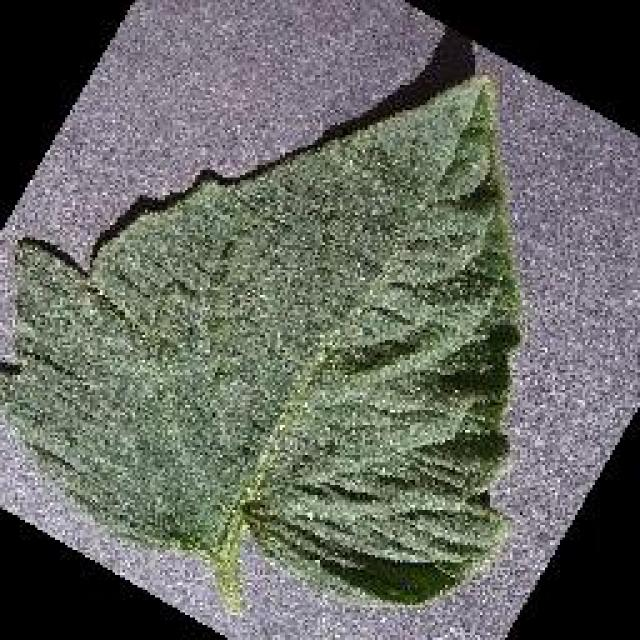Tomato___healthy: (0, 72, 524, 622)
